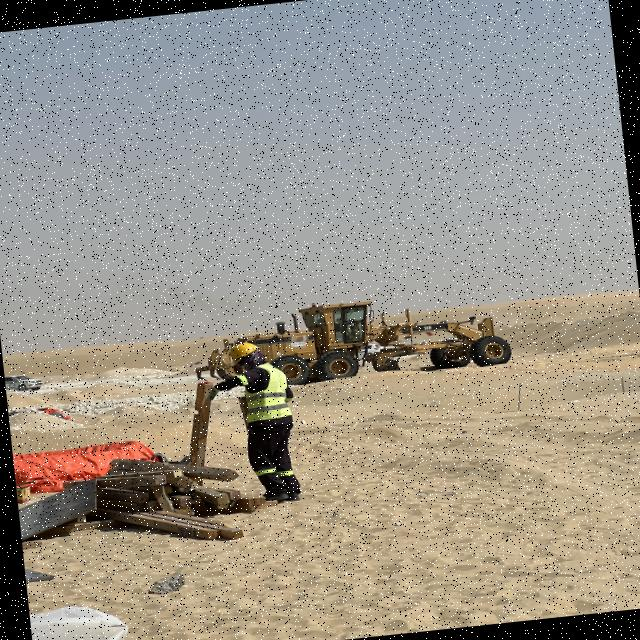Grader: (273, 274, 516, 394)
